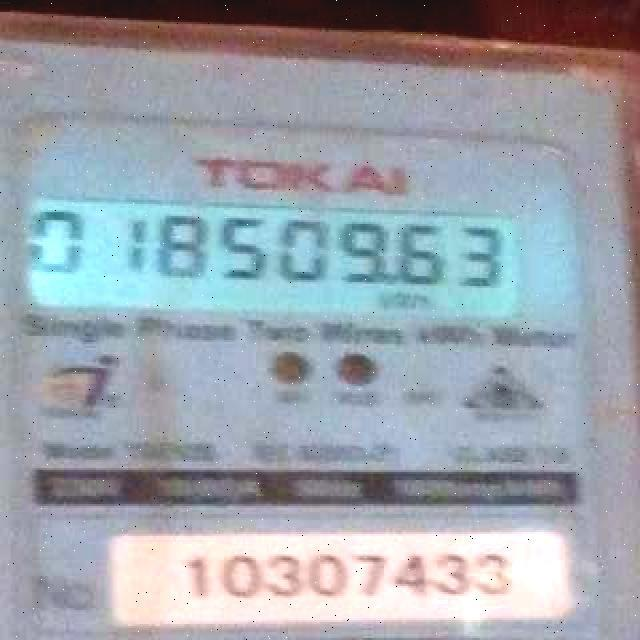LCD: (15, 179, 544, 326)
